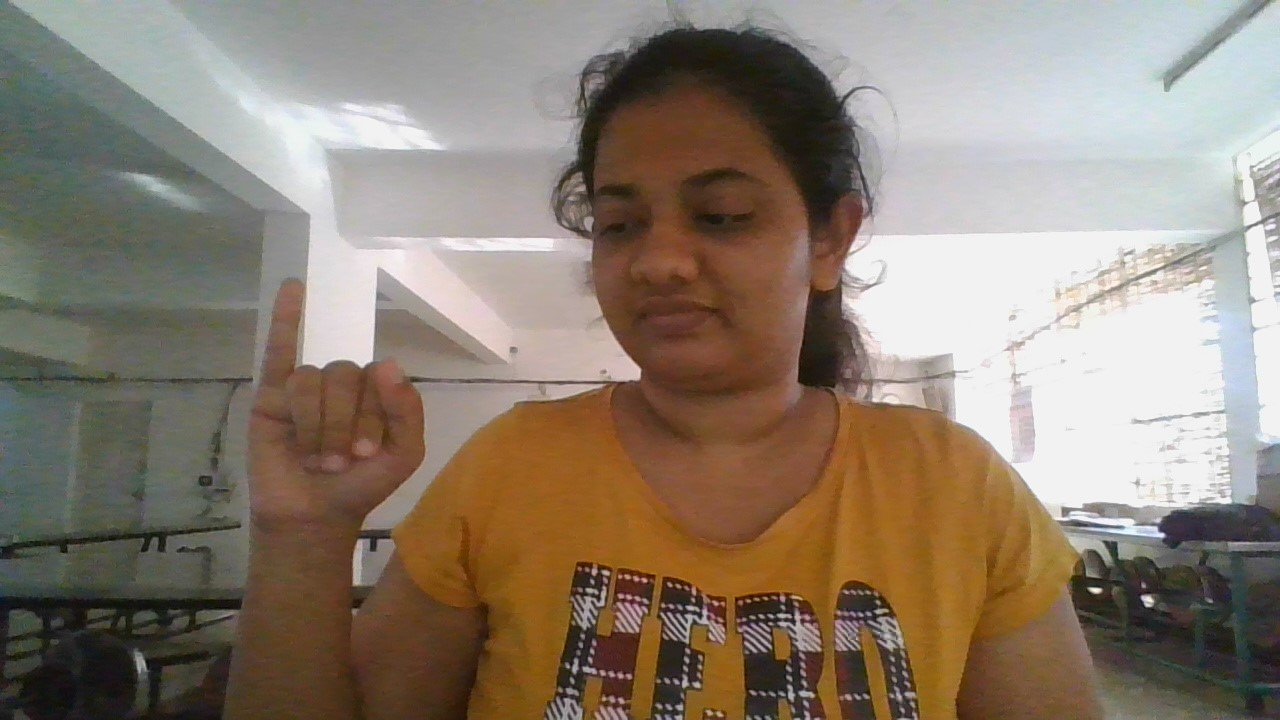i: (224, 267, 434, 532)
